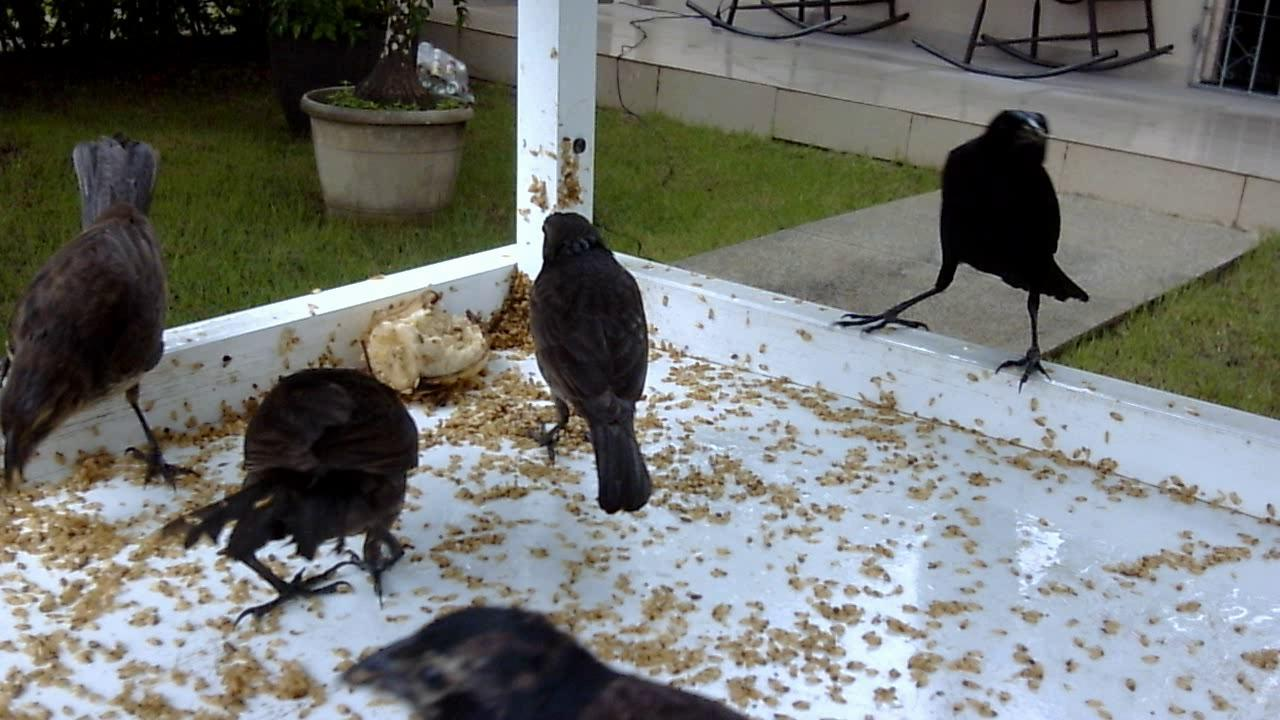chupim: (138, 357, 435, 639), (830, 103, 1097, 397), (3, 132, 203, 510), (340, 590, 751, 718), (517, 201, 663, 519)
